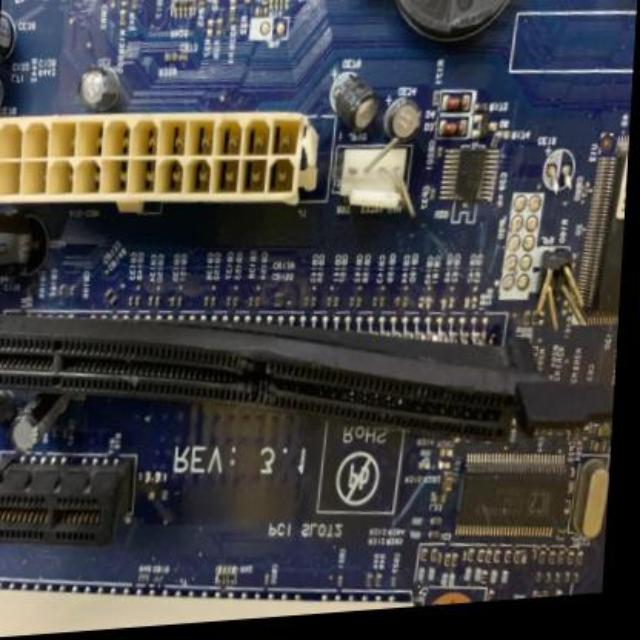PCB: (6, 9, 614, 621), (2, 6, 618, 610)
